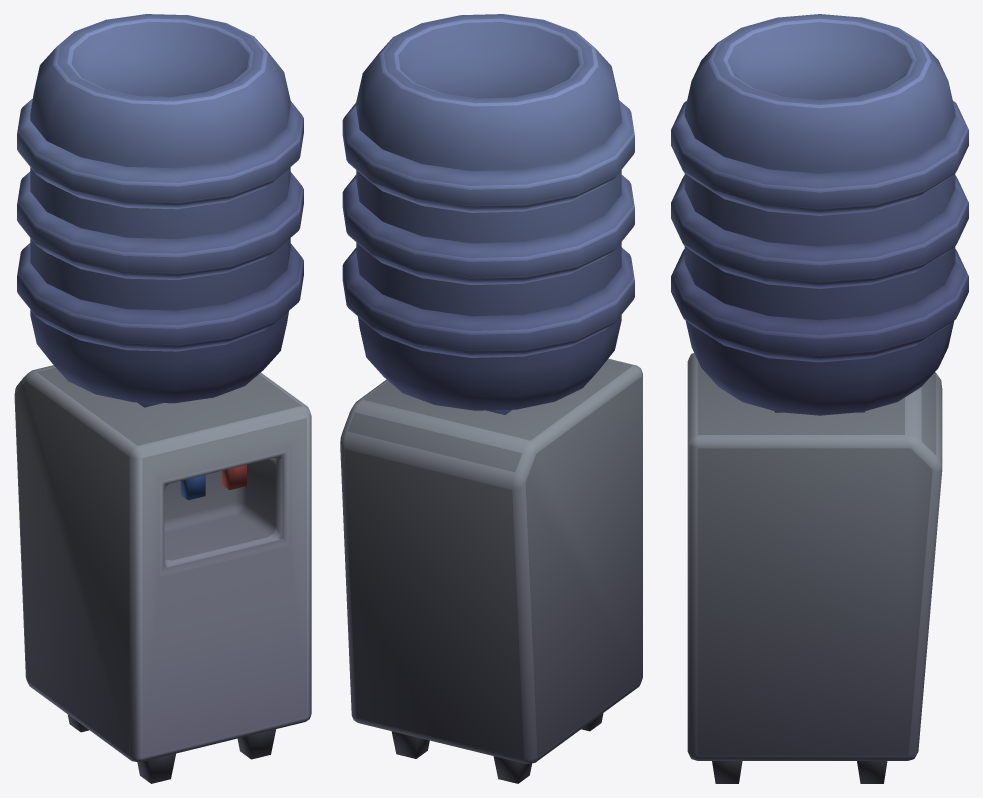
The picture shows the model from 3 angles, left to right: view 1: azimuth 30°, elevation 25°; view 2: azimuth 150°, elevation 25°; view 3: azimuth 270°, elevation 25°; orthographic projection. The views are drawn at different scales.
Visible parts, largest first — view 1: box.002; view 2: box.002; view 3: box.002.
Part boxes in pixels (bbox=[...]): box.002: bbox=[14, 14, 311, 783]; box.002: bbox=[340, 14, 642, 783]; box.002: bbox=[671, 14, 968, 783].
Bounding box in the file's own units: 166 × 426 × 166.
